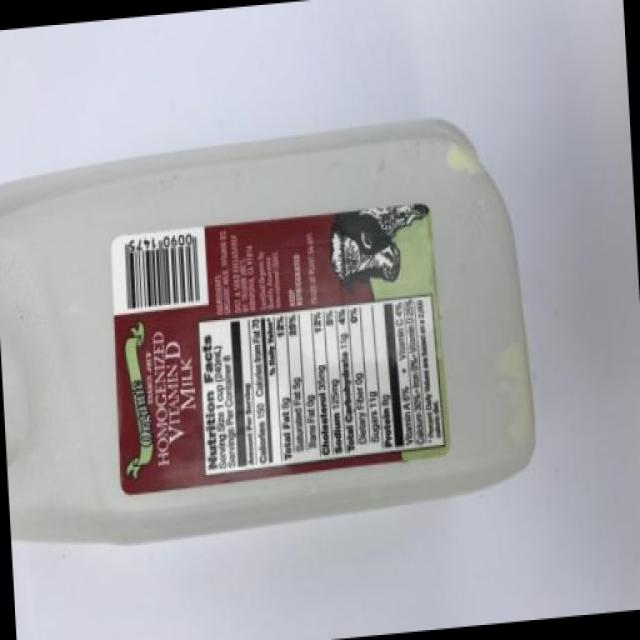plastico: (12, 99, 569, 576)
